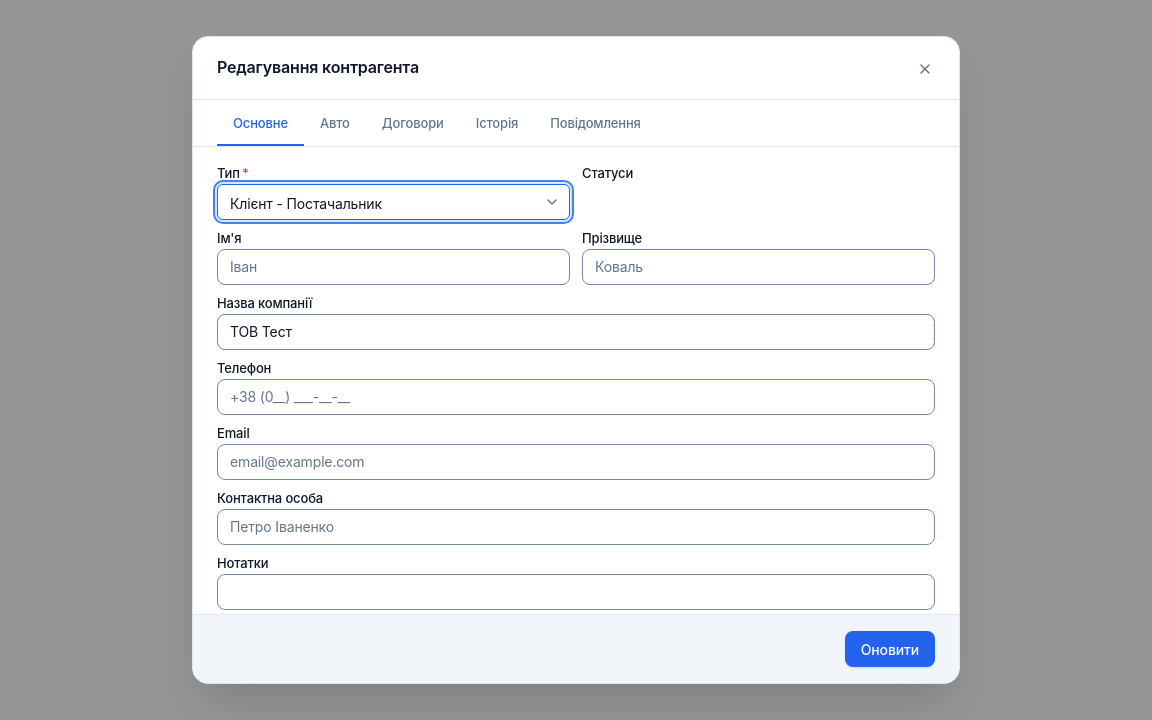
CounterpartyEditModal — «Вид договору» за типом контрагента (BR-CP-005) › submit шле вид, який обрав користувач, а не виведений із типу контрагента
Click the button "Договори" at (413, 125), box [366,104,460,146]
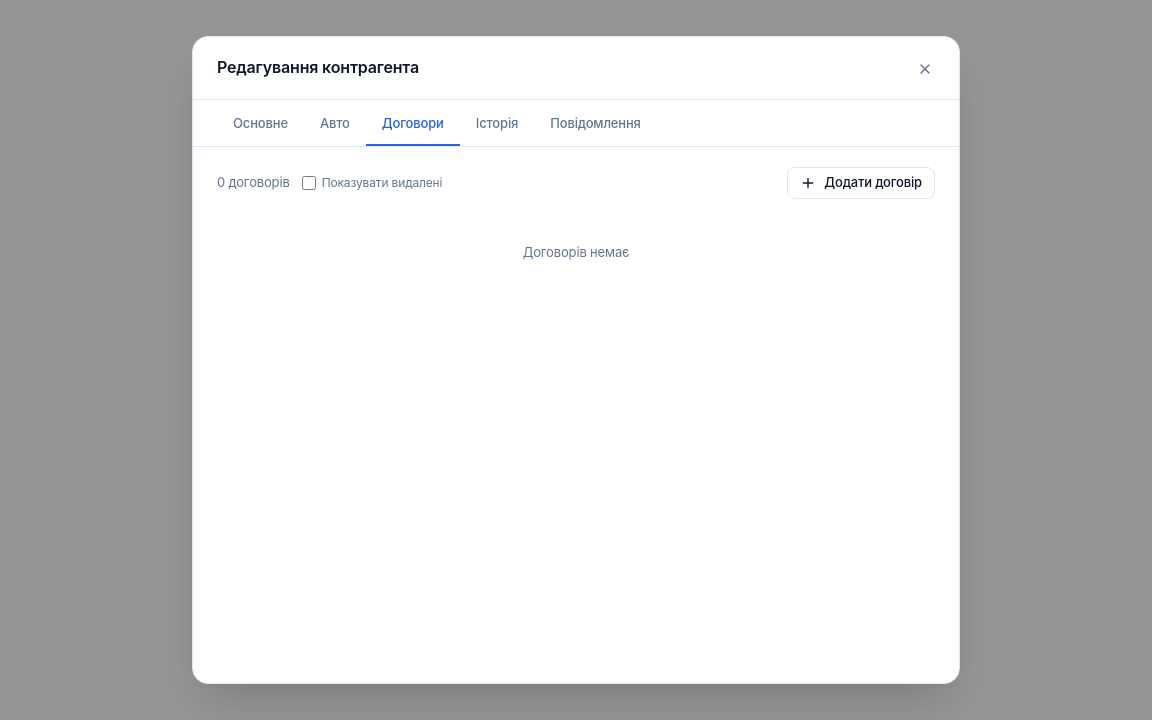
Expected: the button "Додати договір" is shown
Click the button "Додати договір" at (861, 182), box [787,166,935,198]
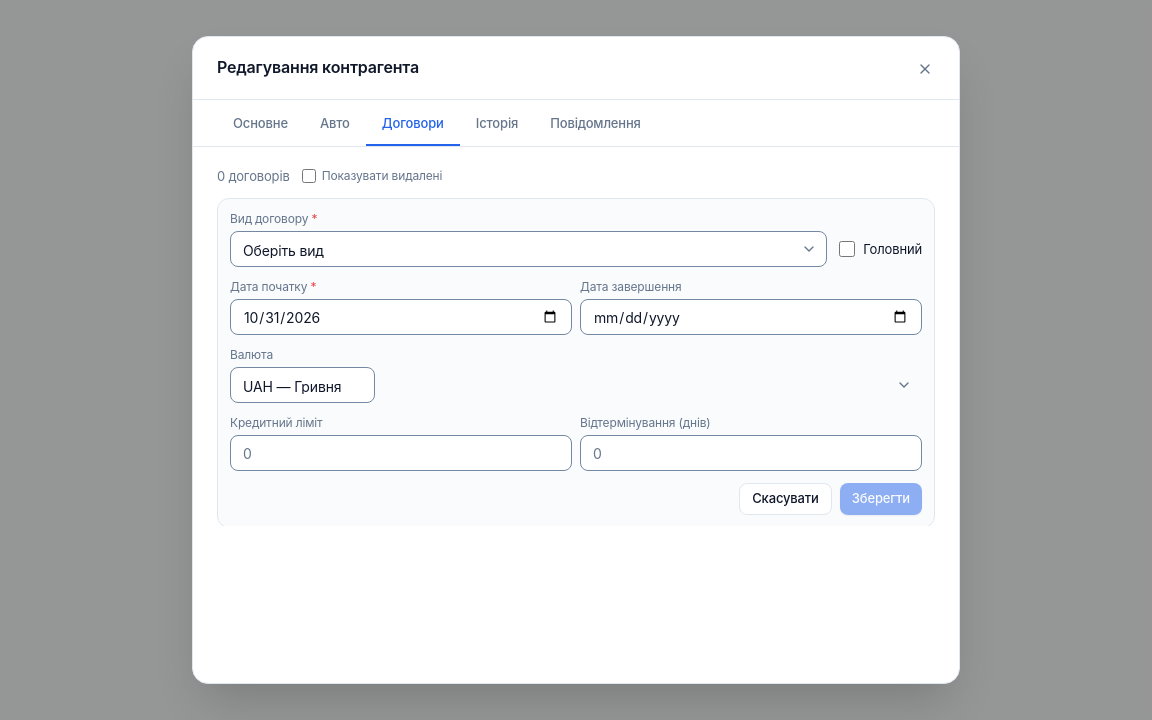
Select "Продаж" in the dropdown below "Вид договору" at (529, 249), box [230,231,827,267]
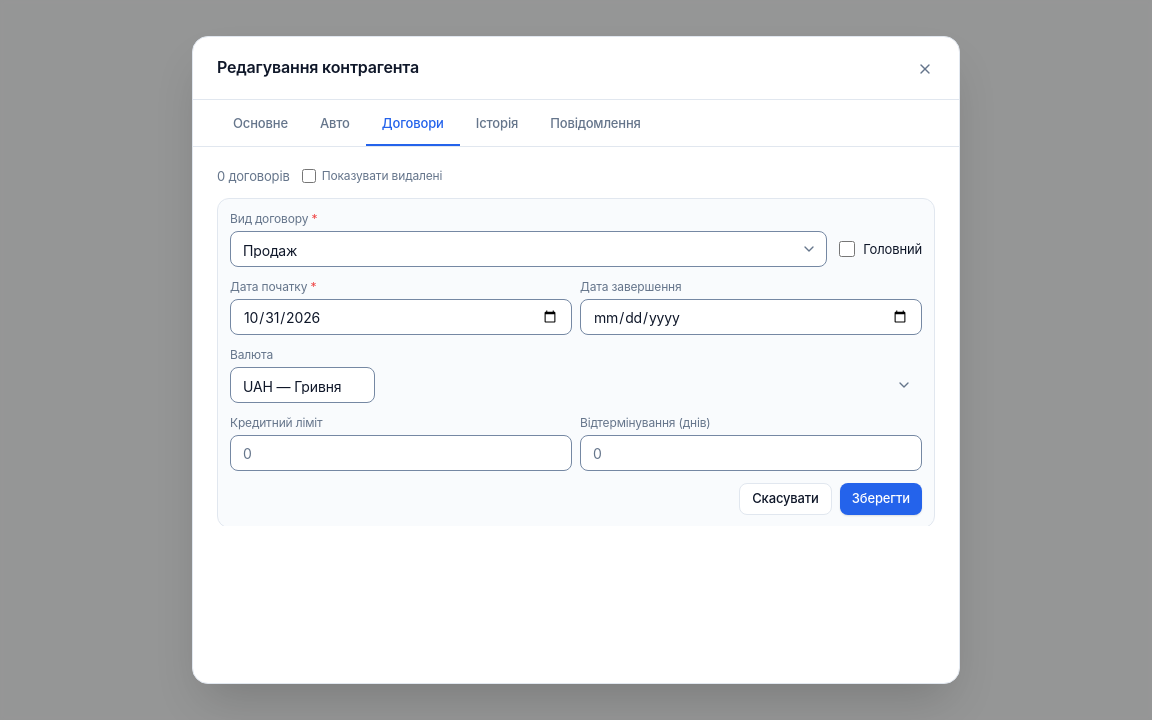
Click the button "Зберегти" at (881, 499), box [840,483,922,515]
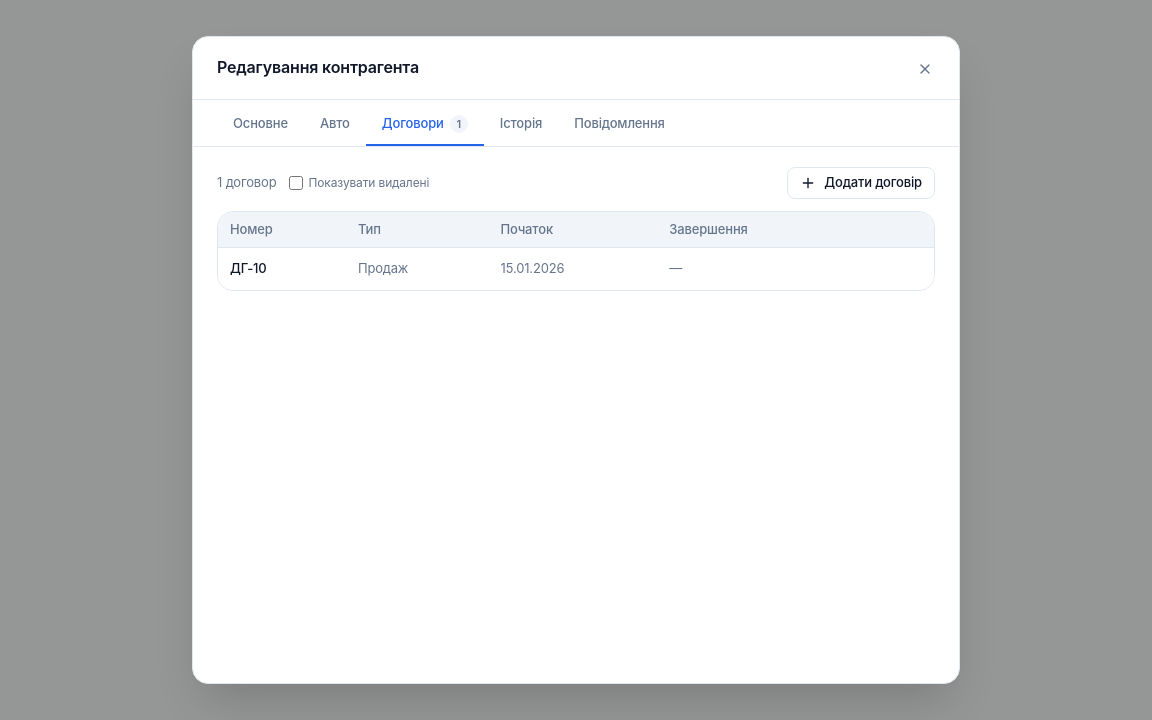
Expected: the text "ДГ-10" is shown, [230,260,267,276]
